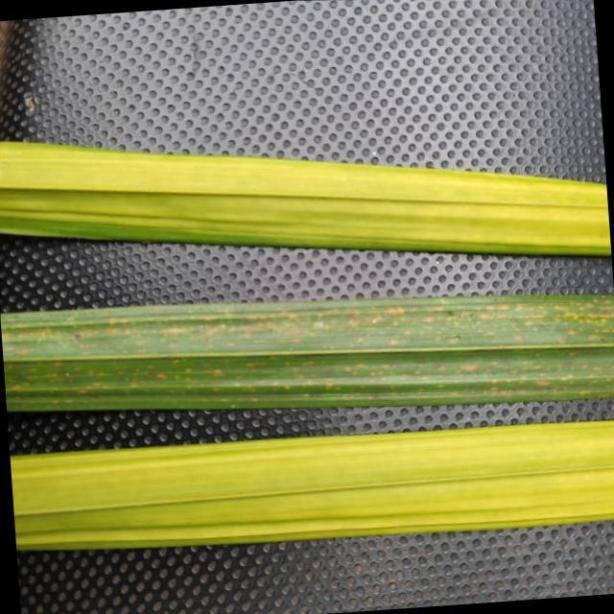nitrogen: (0, 128, 614, 254), (7, 421, 614, 547), (0, 296, 614, 417)
